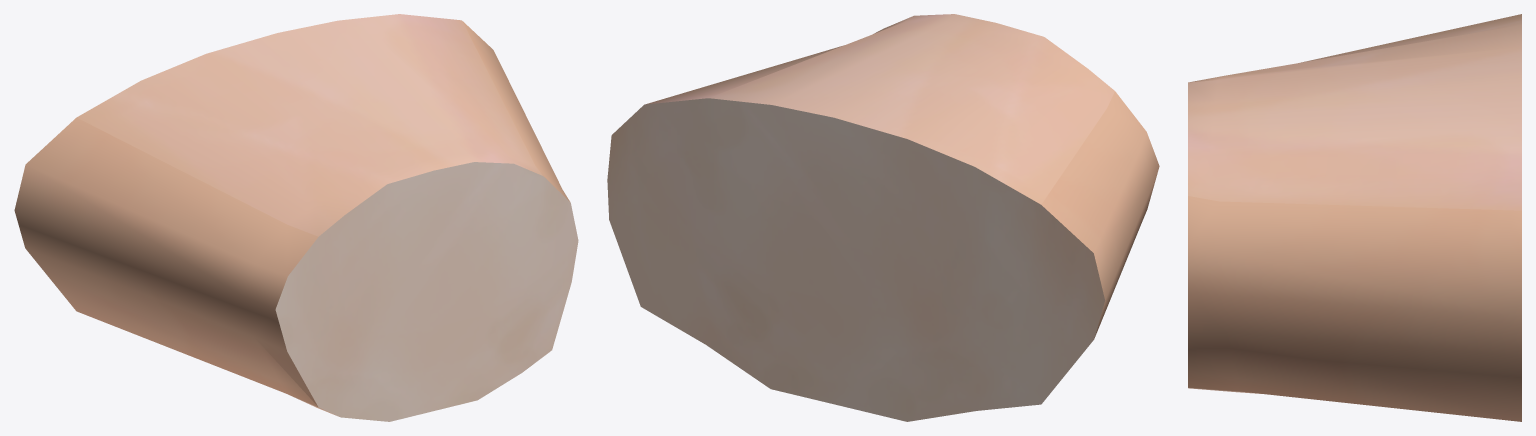
The model's file is chicken_breast_02.fbx.
3 views of the same model, side by side, from view 1: azimuth 30°, elevation 25°; view 2: azimuth 150°, elevation 25°; view 3: azimuth 270°, elevation 25° (orthographic). The views are drawn at different scales.
Visible parts, largest first — view 1: chicken_breast_02; view 2: chicken_breast_02; view 3: chicken_breast_02.
Part boxes in pixels (left/top/right/bottom): chicken_breast_02: left=14, top=14, right=578, bottom=421; chicken_breast_02: left=607, top=14, right=1159, bottom=421; chicken_breast_02: left=1188, top=14, right=1521, bottom=421.
Size of the model in its own units: 3.47 by 1.91 by 1.95.
